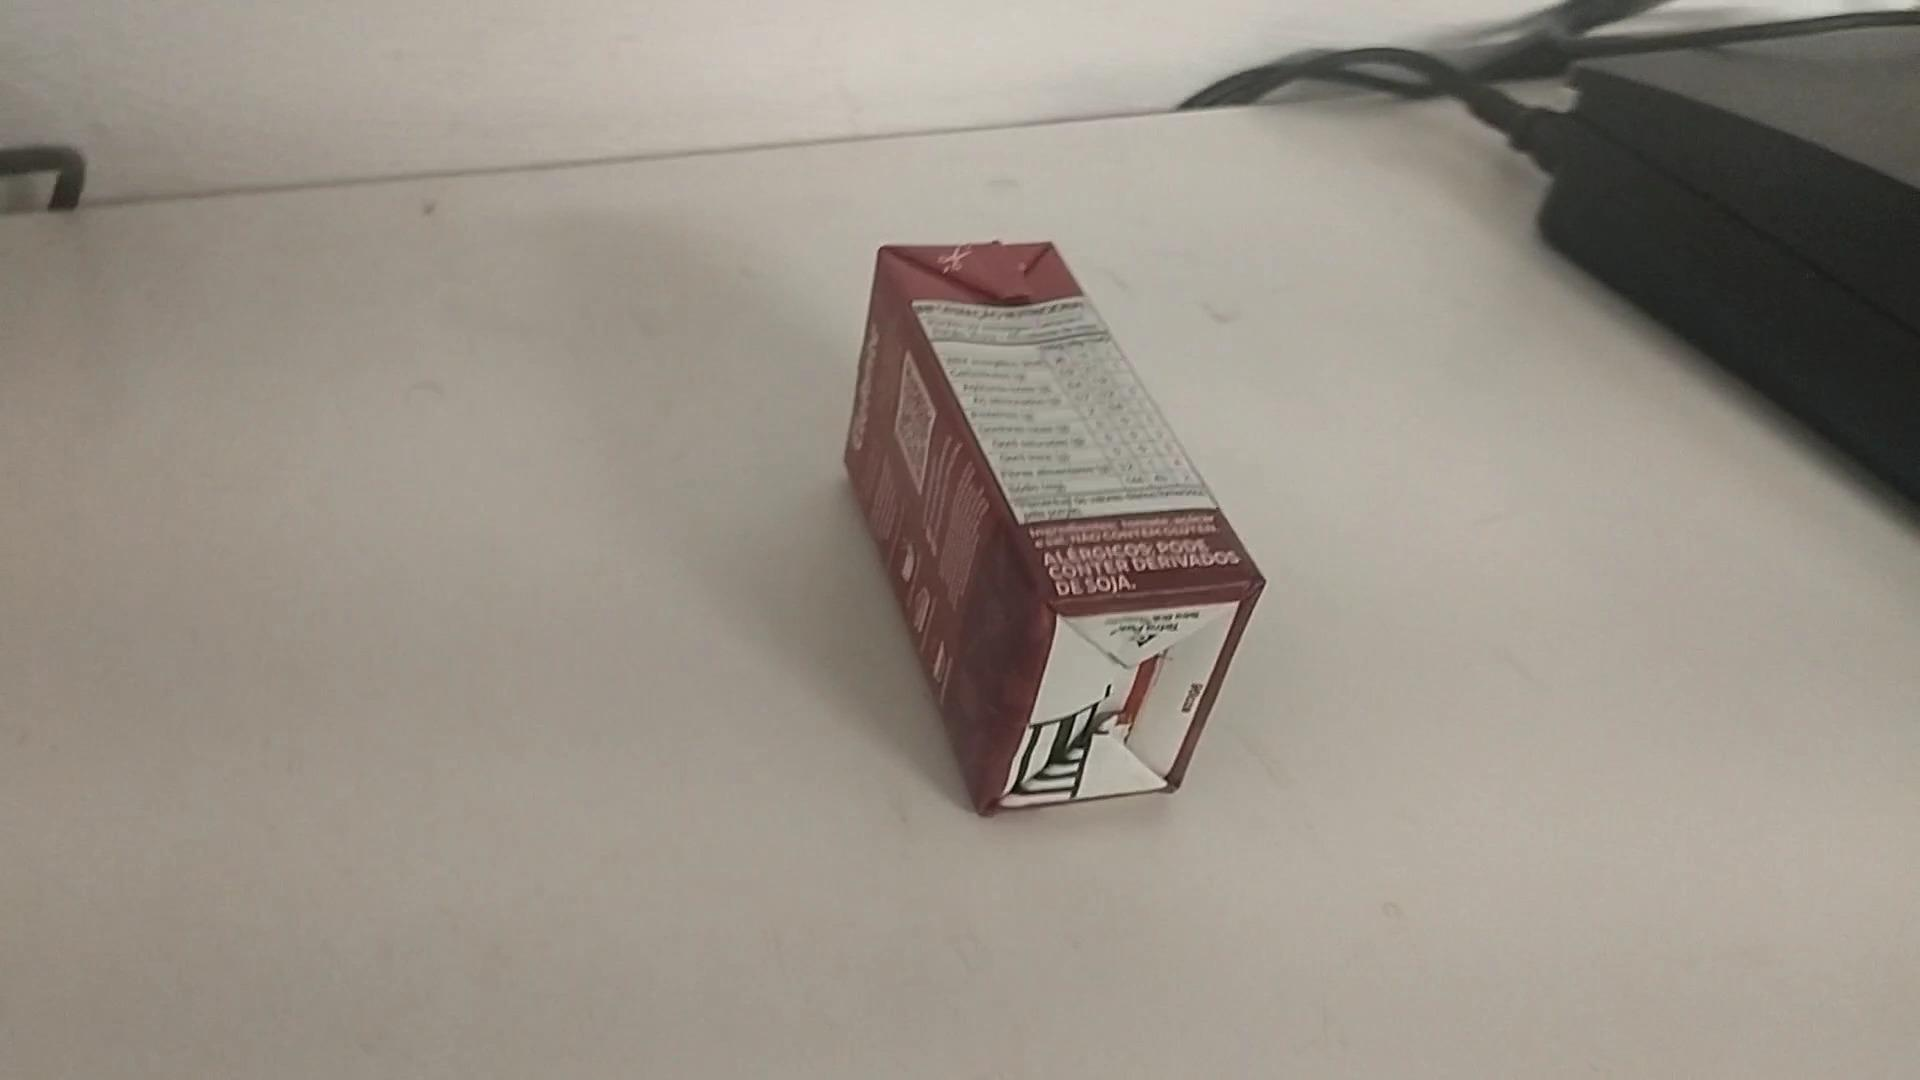tomate: (844, 237, 1273, 823)
